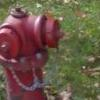Hydrant: (3, 2, 64, 100)
